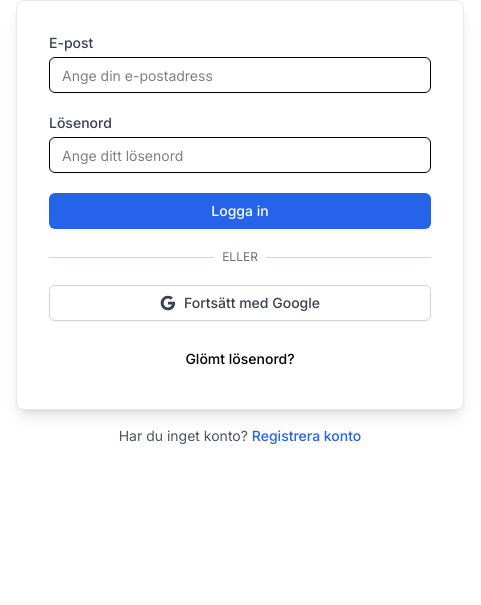
Test: LoginForm Error Handling › clears forgot password button when form is resubmitted
The image size is (481, 605).
First attempt - wrong credentials
Type "test@example.com" into the field labelled "E-post". click: (240, 75)
box: [49,57,431,93]
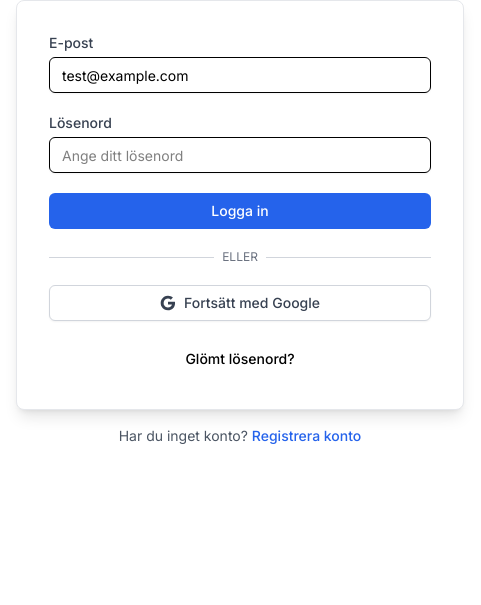
Type "wrongpassword" into the password field labelled "Lösenord". click: (240, 155)
box: [49,137,431,173]
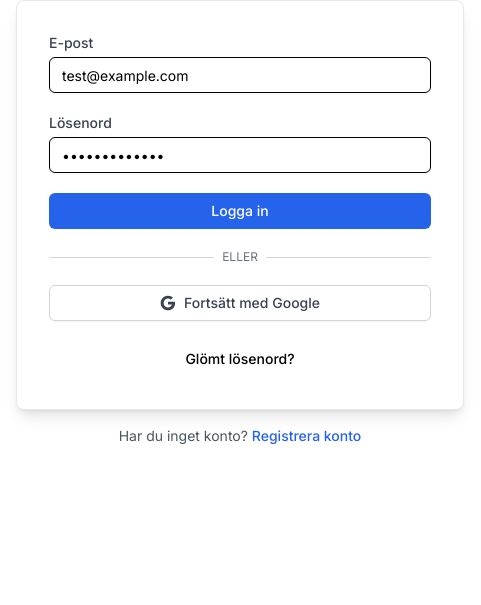
Click the button "Logga in". click: (240, 211)
box: [49,193,431,229]
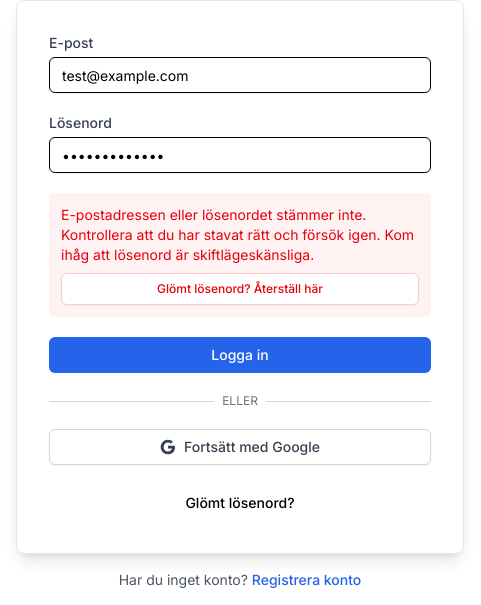
Result: the button "Glömt lösenord? Återställ här" is shown at [61,273,419,305]
Second attempt - correct credentials
Type "correctpassword" into the password field labelled "Lösenord". click: (240, 155)
box: [49,137,431,173]
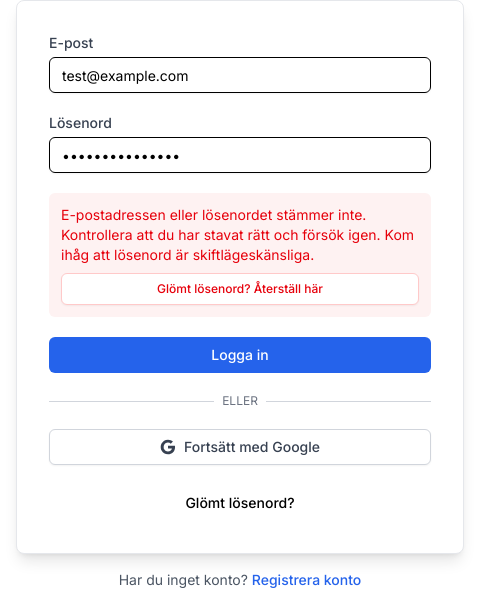
Click the button "Logga in". click: (240, 355)
box: [49,337,431,373]
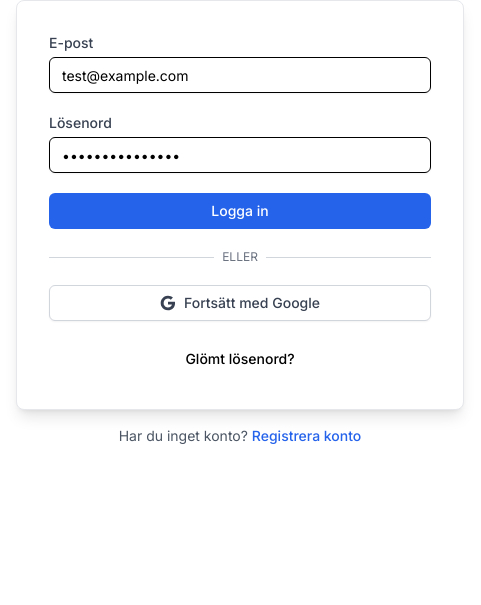
Result: the button "Glömt lösenord? Återställ här" is gone
